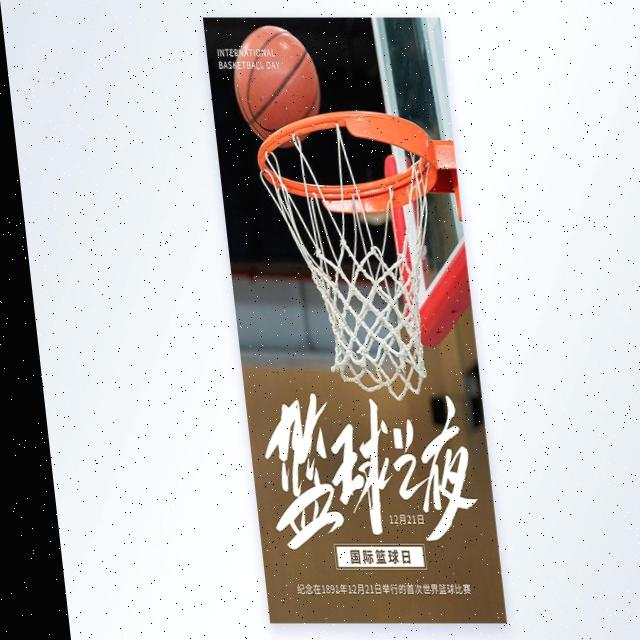basketball: (228, 25, 324, 146)
hoop: (255, 110, 460, 400)
